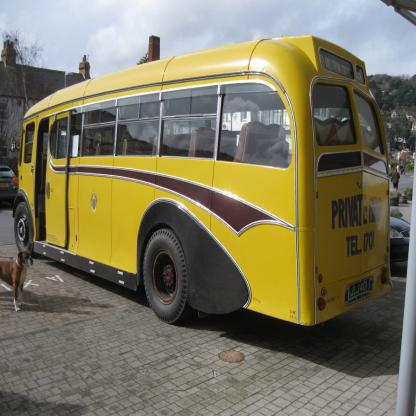Bus: (13, 35, 393, 326)
